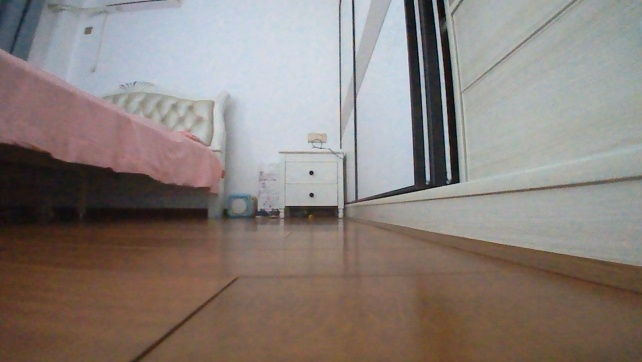bed: (0, 45, 232, 220)
cabinet: (277, 147, 345, 220)
wire: (310, 138, 345, 160)
